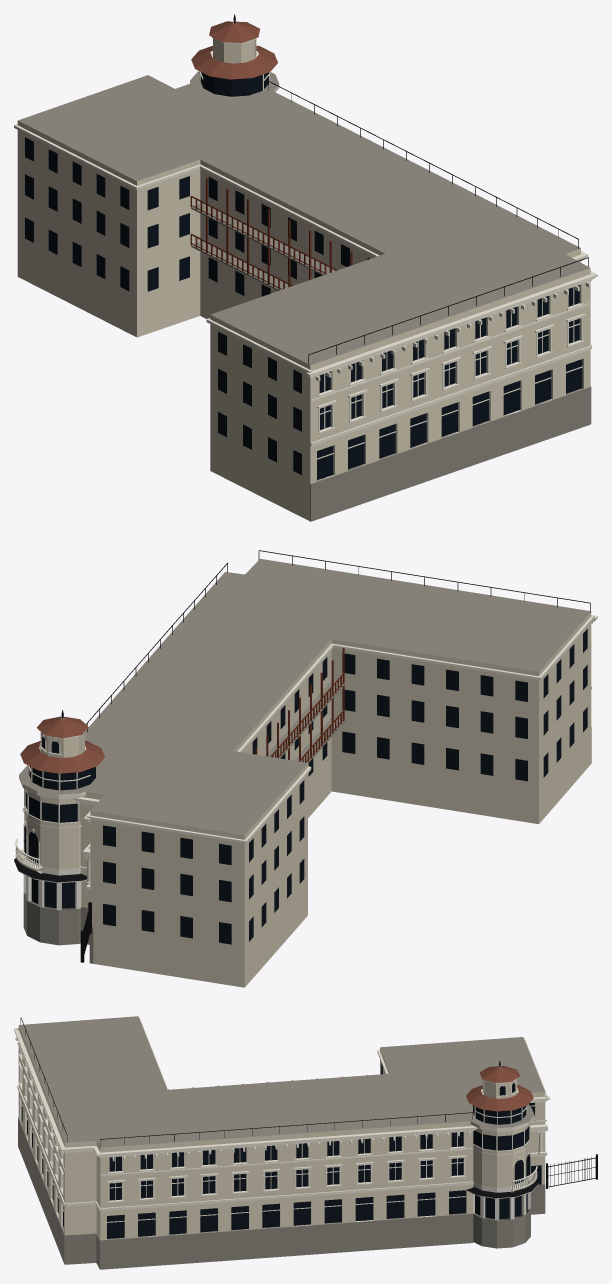
The picture shows the model from 3 angles, top to bottom: view 1: azimuth 30°, elevation 25°; view 2: azimuth 150°, elevation 25°; view 3: azimuth 270°, elevation 25°; orthographic projection. The views are drawn at different scales.
Visible parts, largest first — view 1: w92718640_stone, w92718640_wall, w92718640_glass, w92718640_trim, w92718640_wood, w92718640_roof, w92718640_metal; view 2: w92718640_wall, w92718640_stone, w92718640_glass, w92718640_trim, w92718640_roof, w92718640_metal, w92718640_wood, w92718640_wall2; view 3: w92718640_stone, w92718640_wall, w92718640_trim, w92718640_glass, w92718640_metal, w92718640_roof, w92718640_wall2.
Part boxes in pixels (left/top/right/bottom): w92718640_stone: left=18, top=71, right=591, bottom=521; w92718640_wall: left=17, top=38, right=590, bottom=520; w92718640_glass: left=25, top=49, right=582, bottom=480; w92718640_trim: left=14, top=22, right=597, bottom=480; w92718640_wood: left=190, top=178, right=352, bottom=289; w92718640_roof: left=191, top=21, right=277, bottom=79; w92718640_metal: left=233, top=14, right=588, bottom=364; w92718640_wall: left=24, top=612, right=591, bottom=987; w92718640_stone: left=19, top=558, right=591, bottom=963; w92718640_glass: left=24, top=629, right=587, bottom=944; w92718640_trim: left=14, top=575, right=597, bottom=890; w92718640_roof: left=20, top=716, right=104, bottom=773; w92718640_metal: left=14, top=550, right=590, bottom=962; w92718640_wood: left=255, top=647, right=344, bottom=762; w92718640_wall2: left=23, top=869, right=81, bottom=910; w92718640_stone: left=18, top=1016, right=545, bottom=1269; w92718640_wall: left=18, top=1025, right=545, bottom=1240; w92718640_trim: left=14, top=1019, right=549, bottom=1239; w92718640_glass: left=21, top=1063, right=541, bottom=1238; w92718640_metal: left=20, top=1017, right=597, bottom=1198; w92718640_roof: left=466, top=1066, right=533, bottom=1111; w92718640_wall2: left=473, top=1184, right=530, bottom=1220.
Bounding box in the file's own units: 35.12 × 21.25 × 64.33.
